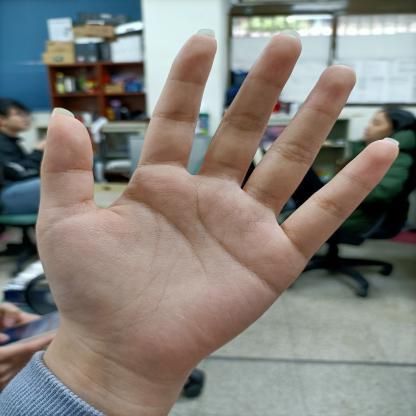bare_hand: (30, 21, 408, 380)
